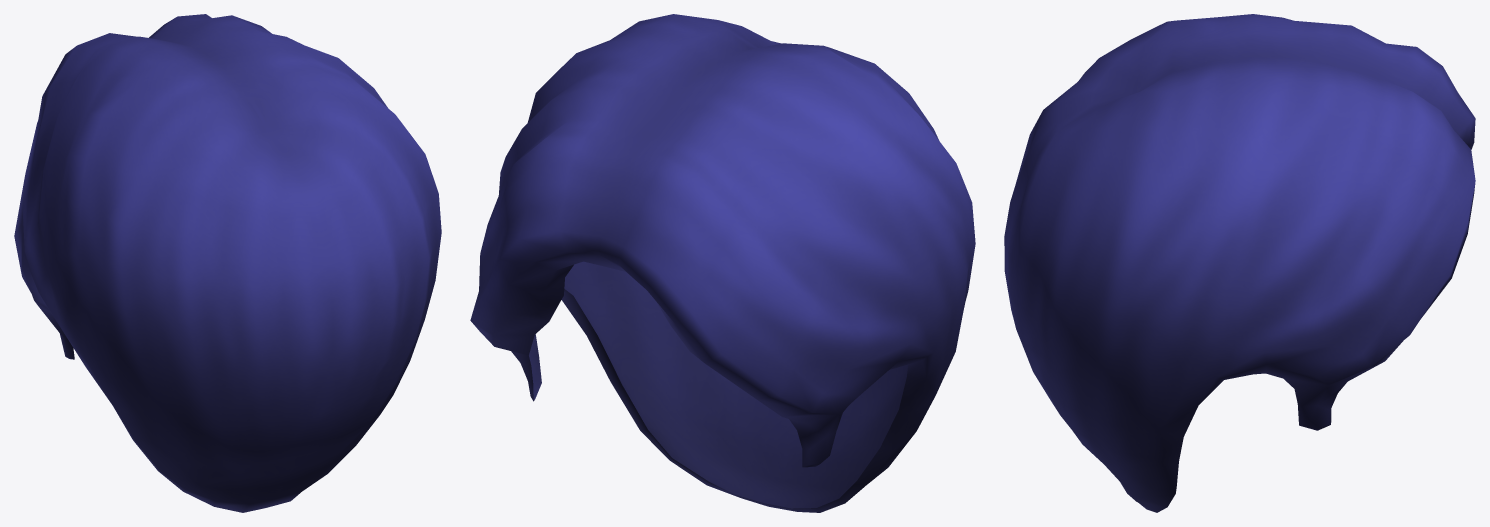
Rendered from Hair_Male_003_textured_blue.glb.
3 views of the same model, side by side, from view 1: azimuth 30°, elevation 25°; view 2: azimuth 150°, elevation 25°; view 3: azimuth 270°, elevation 25° (orthographic). The views are drawn at different scales.
Parts seen in each view (by area): view 1: Hair_Male_003; view 2: Hair_Male_003; view 3: Hair_Male_003.
Part boxes in pixels (x1=…): Hair_Male_003: x1=14, y1=14, x2=441, y2=512; Hair_Male_003: x1=470, y1=14, x2=975, y2=512; Hair_Male_003: x1=1004, y1=14, x2=1475, y2=512.
Bounding box in the file's own units: 0.2155 × 0.2438 × 0.2307.
Materials: 1 (1 with a texture image).
